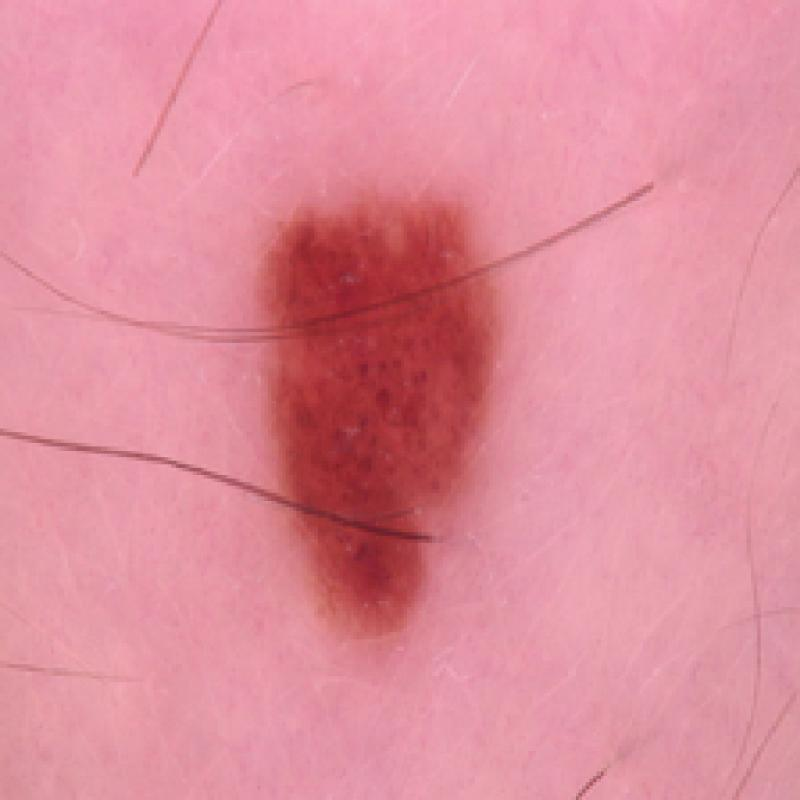benign: (239, 172, 528, 687)
